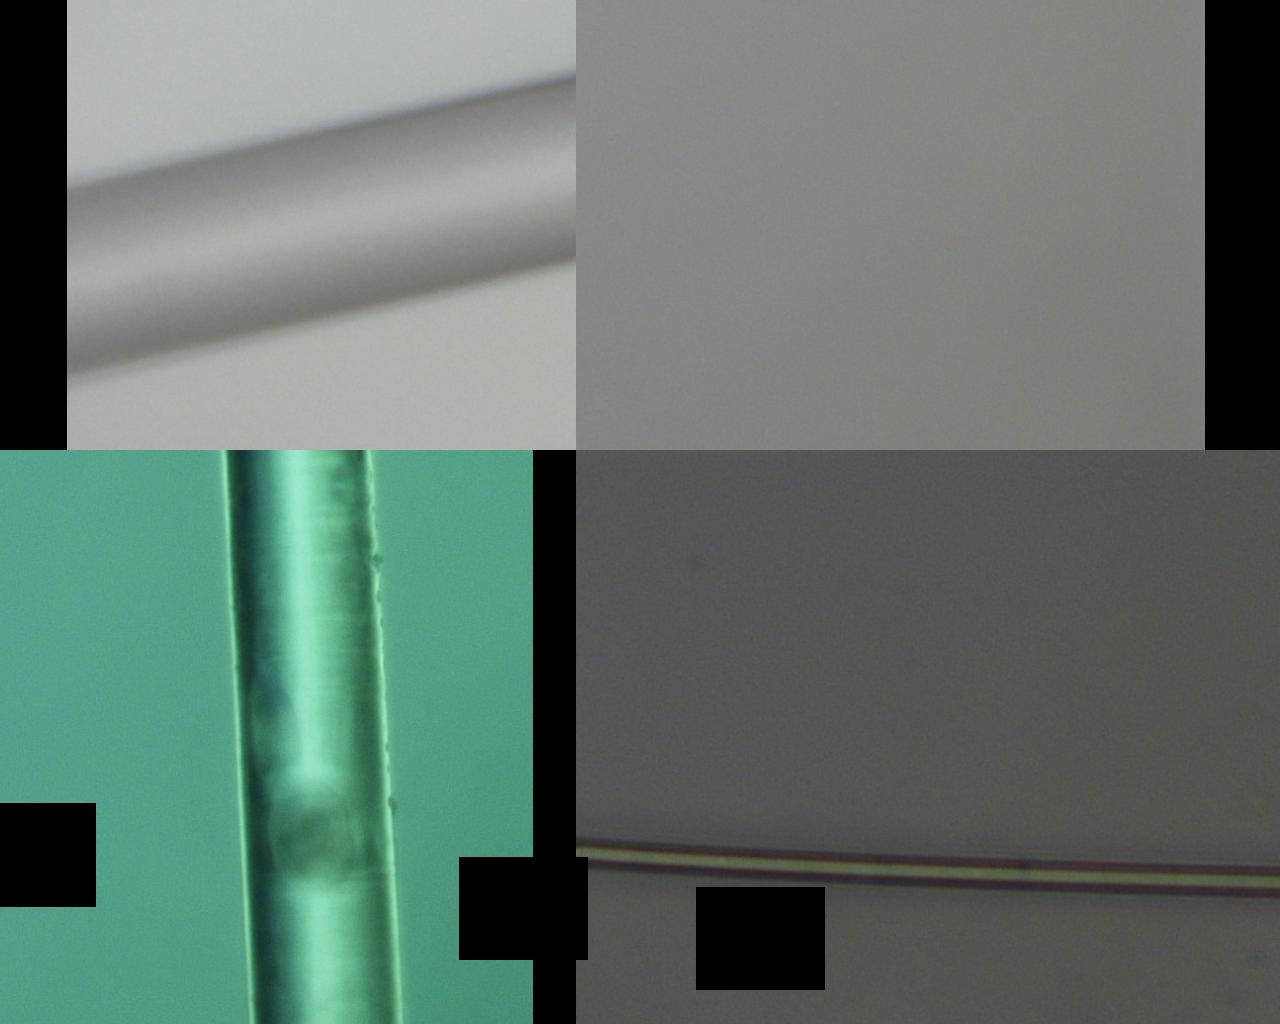fiber: (486, 675, 1280, 1016), (145, 675, 359, 1024), (841, 0, 930, 675)
